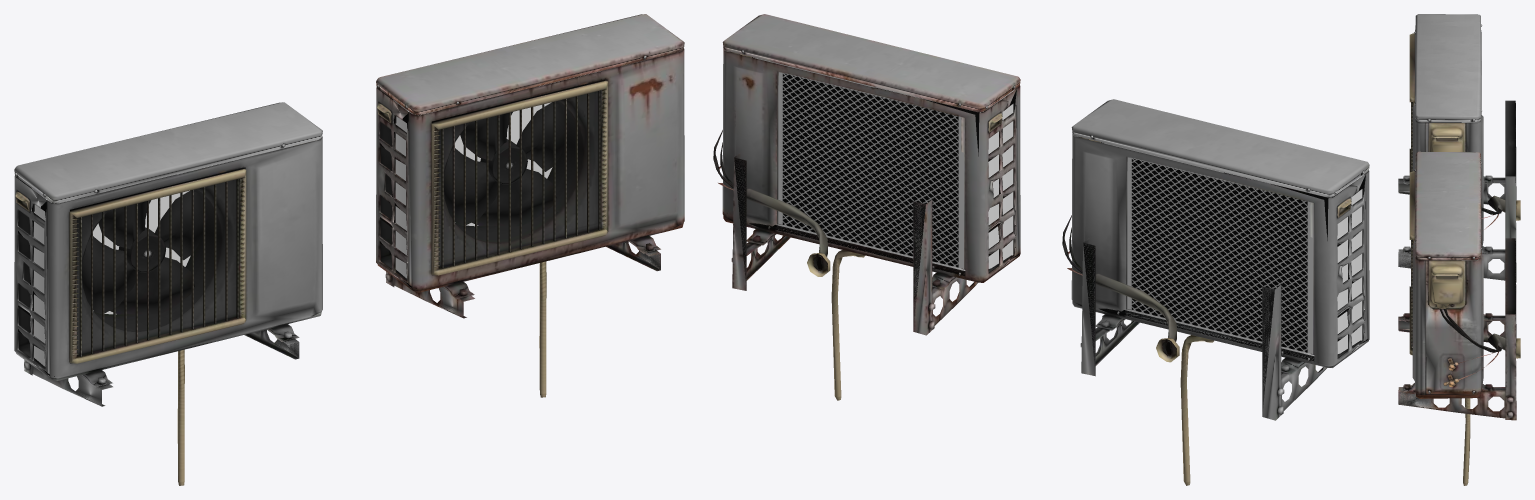
File: sci-fi-aircon-command.collider.glb
The picture shows the model from 3 angles, left to right: view 1: azimuth 30°, elevation 25°; view 2: azimuth 150°, elevation 25°; view 3: azimuth 270°, elevation 25°; orthographic projection. The views are drawn at different scales.
Parts seen in each view (by area): view 1: exterior_aircon_unit_rusted, exterior_aircon_unit; view 2: exterior_aircon_unit_rusted, exterior_aircon_unit; view 3: exterior_aircon_unit_rusted, exterior_aircon_unit.
Boxes of the visible parts, <box> form: exterior_aircon_unit_rusted: <box>376,14,684,397</box>; exterior_aircon_unit: <box>14,102,322,485</box>; exterior_aircon_unit_rusted: <box>713,14,1020,400</box>; exterior_aircon_unit: <box>1062,99,1369,485</box>; exterior_aircon_unit_rusted: <box>1398,151,1520,485</box>; exterior_aircon_unit: <box>1398,14,1520,282</box>.
Bounding box in the file's own units: 1.8 × 0.9279 × 0.3742.
Materials: 4 (4 with a texture image).
